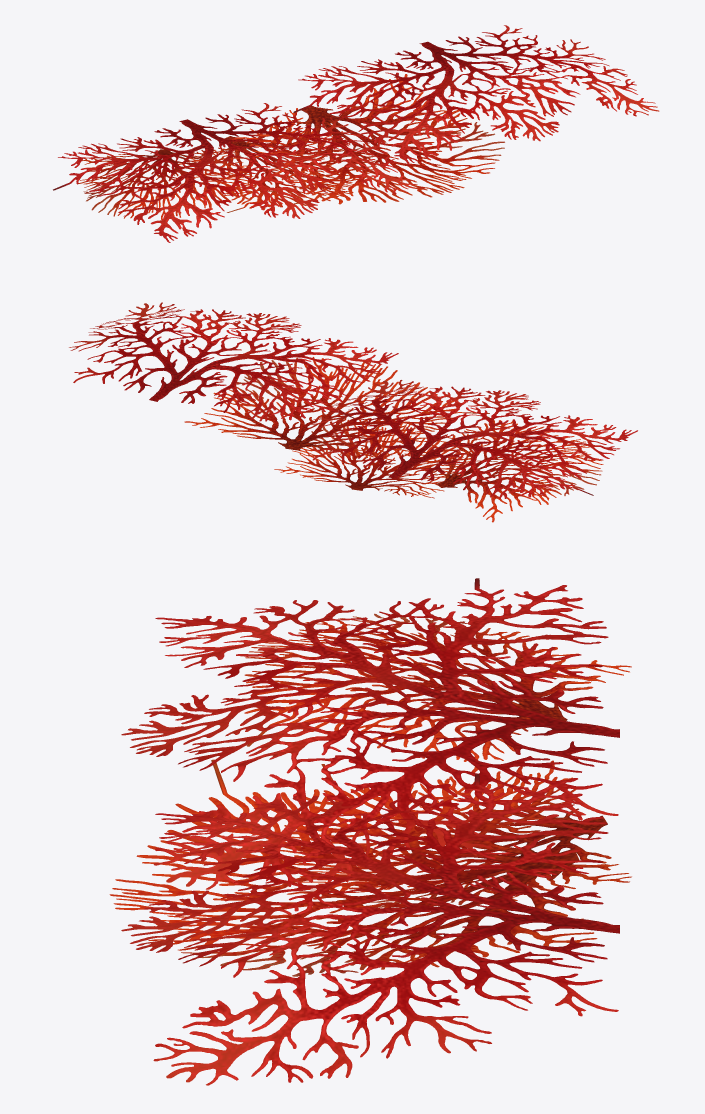
3 views of the same model, one above another, from view 1: azimuth 30°, elevation 25°; view 2: azimuth 150°, elevation 25°; view 3: azimuth 270°, elevation 25° (orthographic). The views are drawn at different scales.
Parts seen in each view (by area): view 1: sc014; view 2: sc014; view 3: sc014.
Part boxes in pixels (x1=…): sc014: x1=53, y1=25, x2=659, y2=242; sc014: x1=69, y1=302, x2=637, y2=522; sc014: x1=109, y1=578, x2=631, y2=1085.
Size of the model in its own units: 1437 by 170 by 677.
